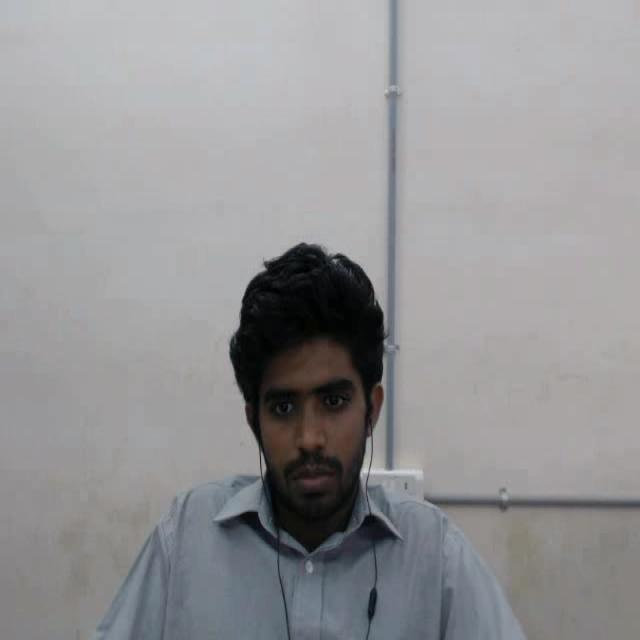Engaged: (204, 234, 415, 539)
